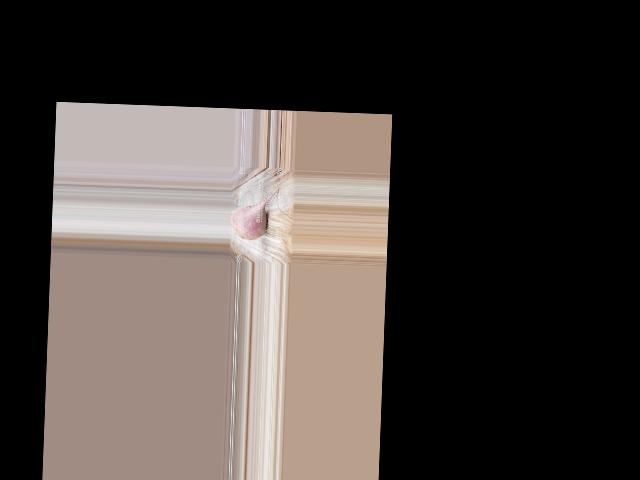beet: (231, 186, 278, 240)
